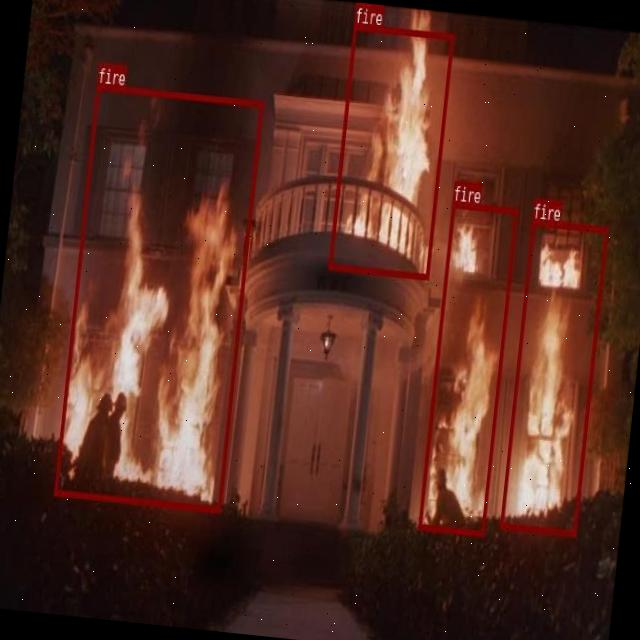fire: (54, 82, 262, 510), (500, 218, 608, 536), (417, 201, 517, 534), (328, 22, 453, 278)
